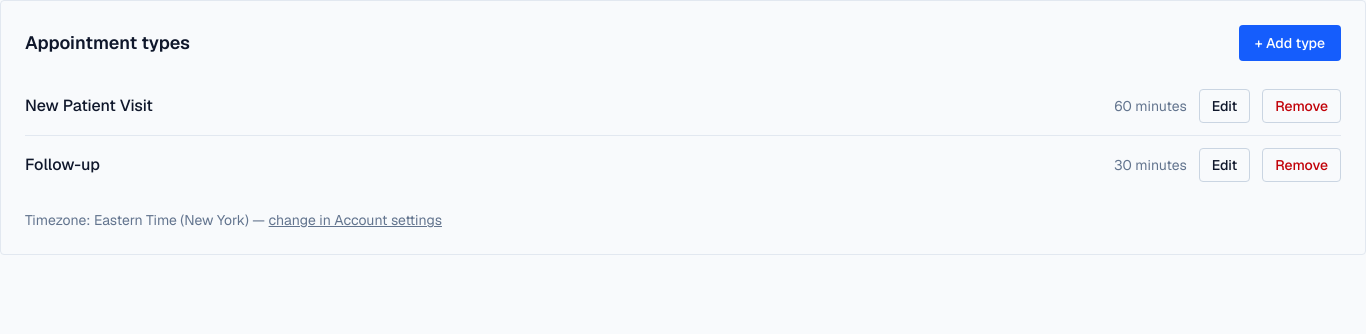
Test: AppointmentTypesSection › edits an appointment type inline: prefilled name and slot length, PATCHes on save, and updates the row
The image size is (1366, 334).
Click the button with aria-label "Edit Follow-up appointment type" at (1224, 165), box [1199,148,1250,182]
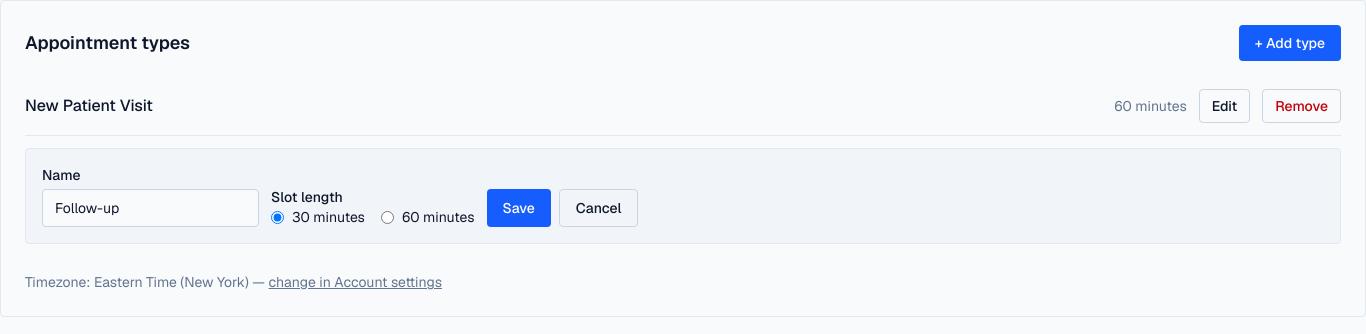
Now the field labelled "Name" holds "Follow-up"
Now the radio button labelled "30 minutes" is checked, box [271,210,284,224]
Replace the text in the field labelled "Name" with "Quick Follow-up" at (150, 208), box [42,189,259,227]
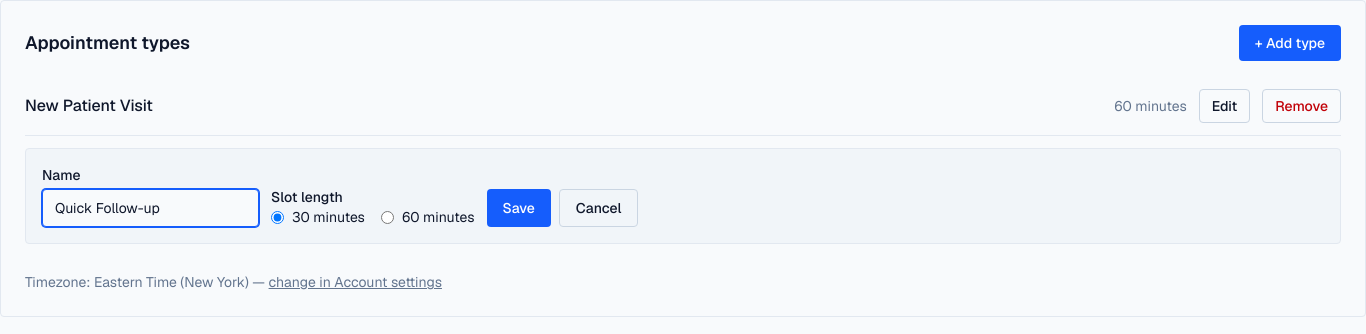
Click the radio button labelled "60 minutes" at (387, 217), box [381,210,394,224]
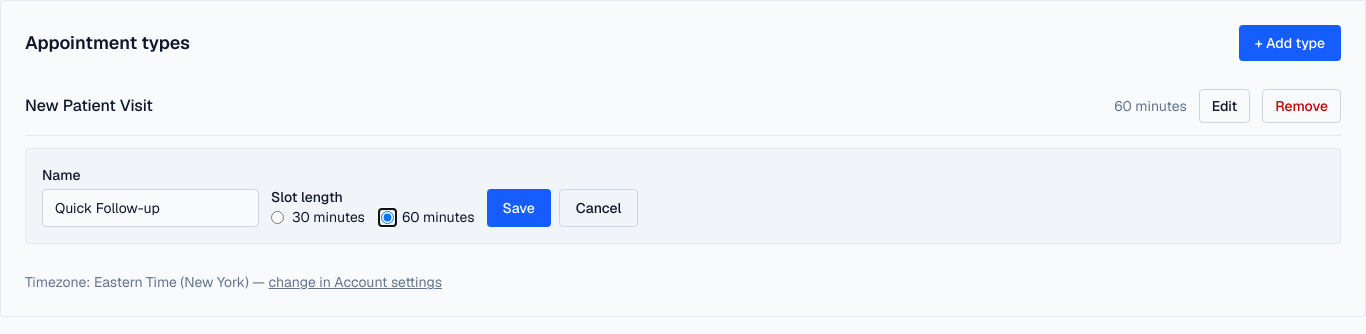
Click the button "Save" at (519, 208), box [486,189,551,227]
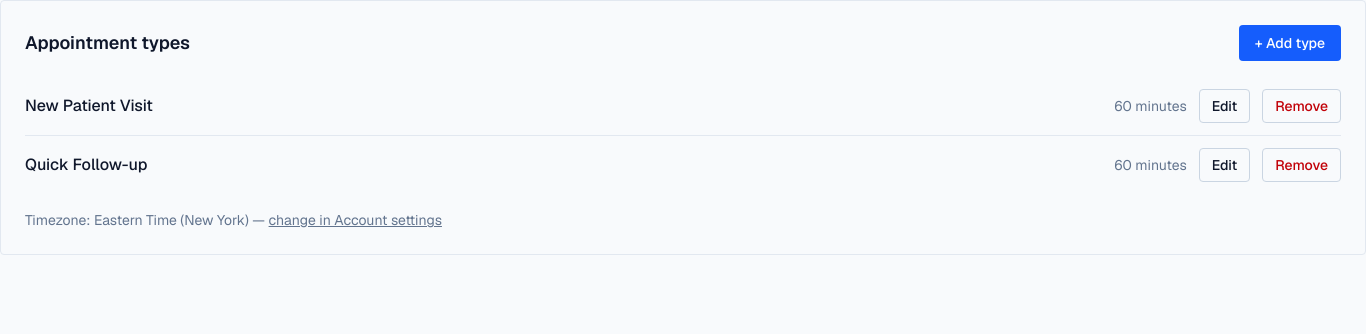
Now the text "Quick Follow-up" is shown, box [25,153,148,177]
